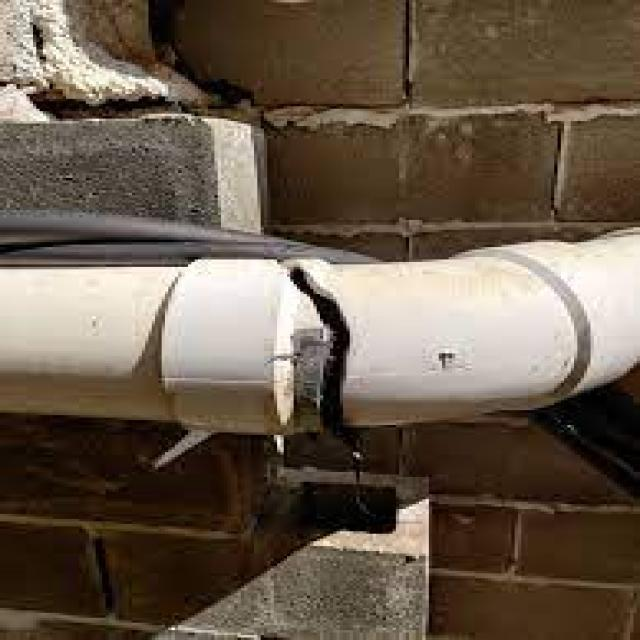crack: (277, 260, 356, 441)
